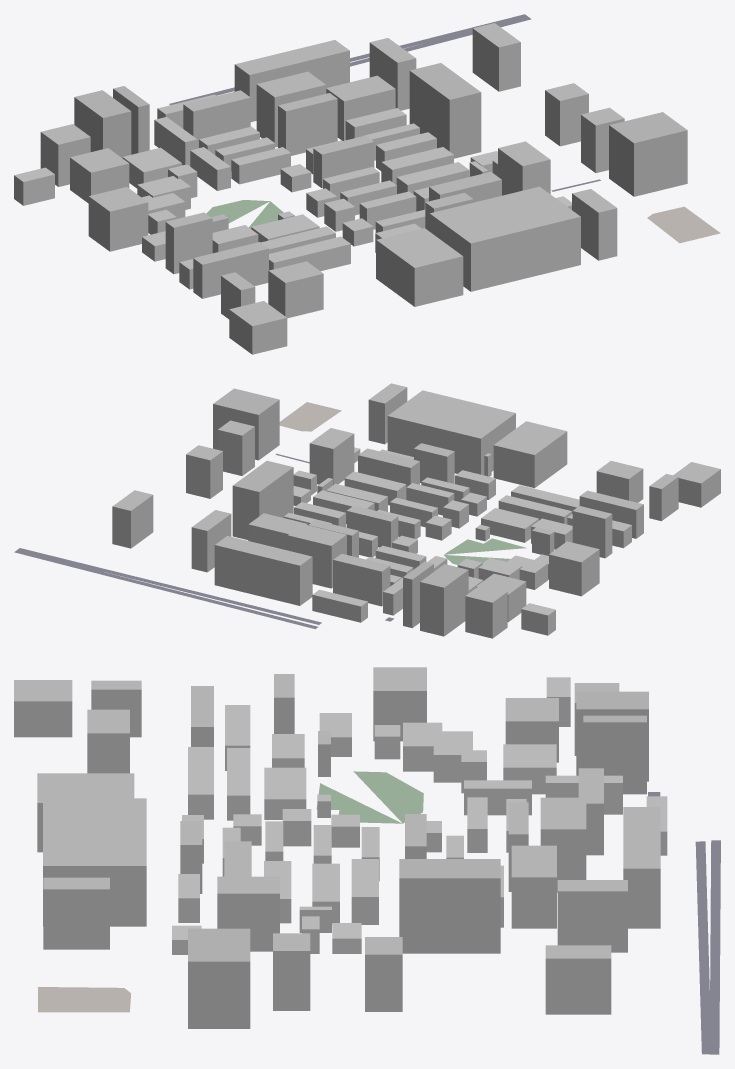
Rendered from 121_90_mid.glb.
The picture shows the model from 3 angles, top to bottom: view 1: azimuth 30°, elevation 25°; view 2: azimuth 150°, elevation 25°; view 3: azimuth 270°, elevation 25°; orthographic projection. The views are drawn at different scales.
Bounding box in the file's own units: 591 × 59.99 × 504.
